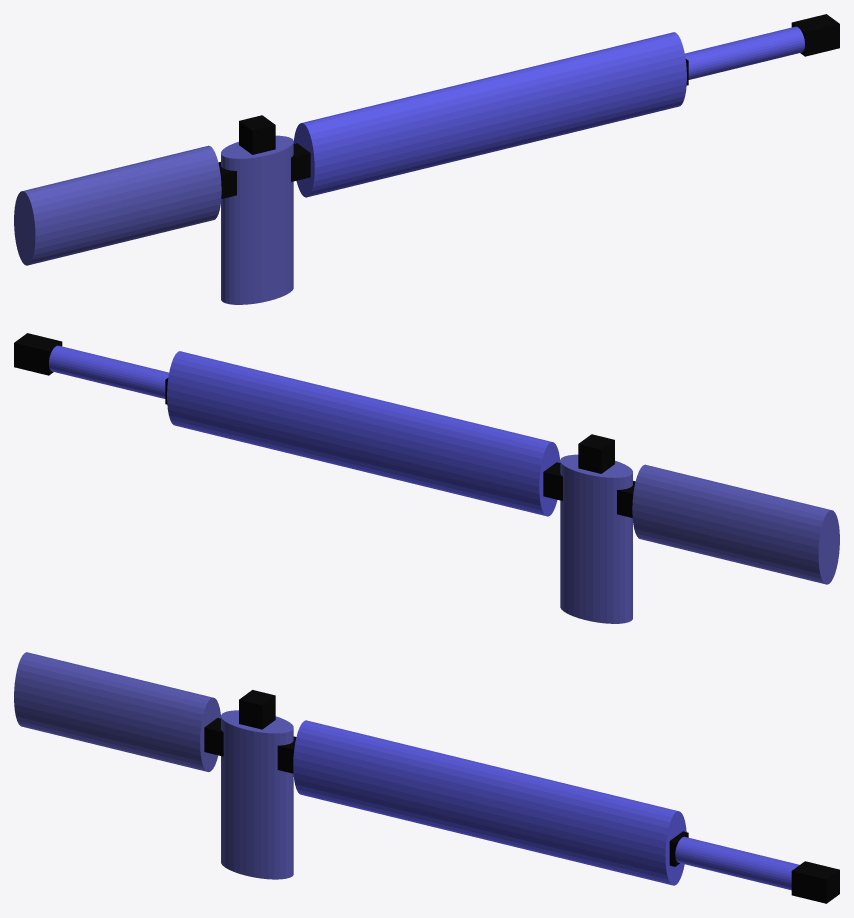
Rendered from blue.glb.
3 views of the same model, one above another, from view 1: azimuth 30°, elevation 25°; view 2: azimuth 150°, elevation 25°; view 3: azimuth 330°, elevation 25° (orthographic).
Parts seen in each view (by area): view 1: MainBody, Stock, Handle, Barrel, Connector2, HandleConnector, Connector3; view 2: MainBody, Stock, Handle, Barrel, Connector2, HandleConnector, Connector3; view 3: MainBody, Stock, Handle, Barrel, Connector2, HandleConnector, StockConnector, Connector3.
Boxes of the visible parts, bbox=[...] form: MainBody: bbox=[293, 32, 686, 197]; Stock: bbox=[14, 145, 221, 265]; Handle: bbox=[221, 135, 293, 304]; Barrel: bbox=[685, 26, 804, 79]; Connector2: bbox=[791, 14, 839, 56]; HandleConnector: bbox=[239, 115, 275, 154]; Connector3: bbox=[291, 143, 310, 181]; MainBody: bbox=[167, 351, 560, 516]; Stock: bbox=[632, 464, 839, 584]; Handle: bbox=[560, 454, 632, 623]; Barrel: bbox=[49, 345, 168, 398]; Connector2: bbox=[14, 333, 62, 375]; HandleConnector: bbox=[578, 434, 614, 473]; Connector3: bbox=[543, 462, 562, 500]; MainBody: bbox=[293, 720, 686, 885]; Stock: bbox=[14, 652, 220, 772]; Handle: bbox=[221, 710, 293, 879]; Barrel: bbox=[675, 836, 799, 890]; Connector2: bbox=[791, 861, 839, 903]; HandleConnector: bbox=[239, 690, 275, 729]; StockConnector: bbox=[204, 718, 223, 756]; Connector3: bbox=[277, 736, 296, 773].
Size of the model in its own units: 3.48 by 0.7 by 0.16.
